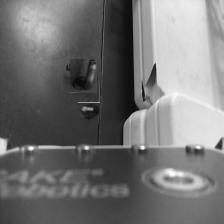Door Handle: (68, 61, 98, 91)
Lock: (80, 100, 99, 119)
